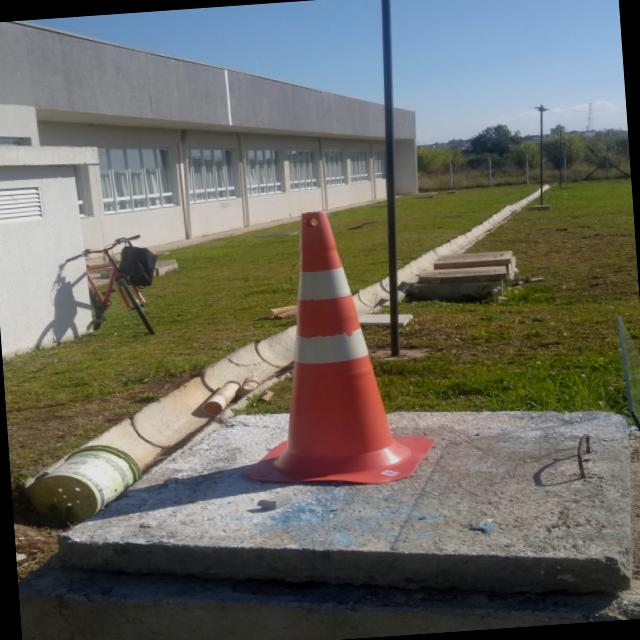cone: (212, 194, 448, 496)
